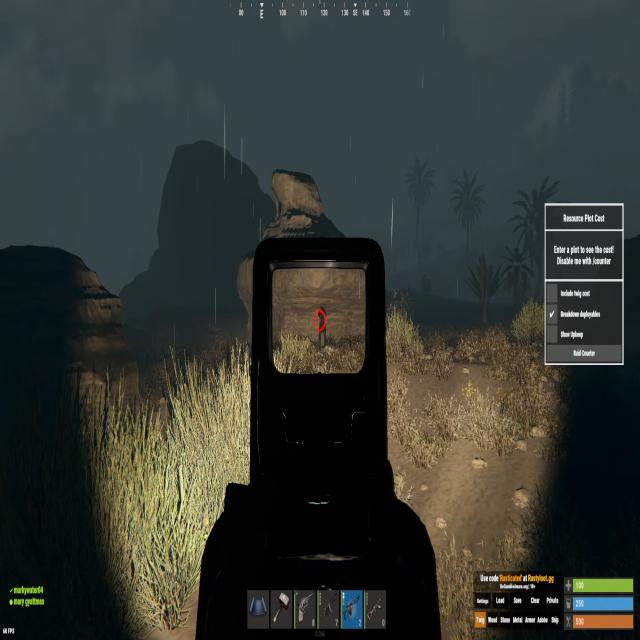Player: (316, 302, 328, 352)
